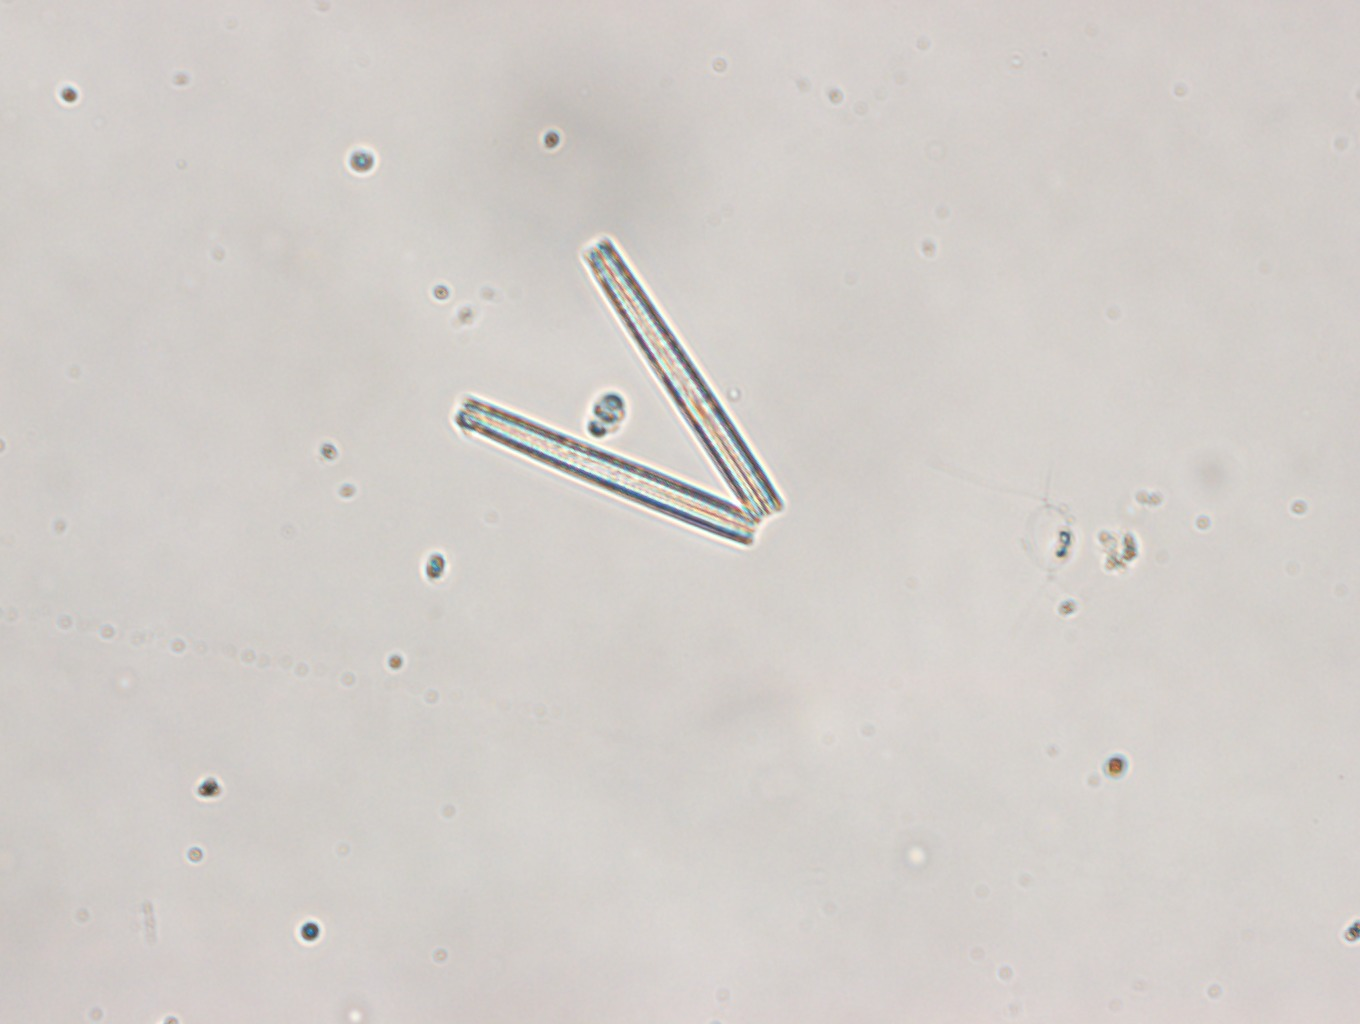thalassionema nitzschioides: (452, 233, 787, 547)
